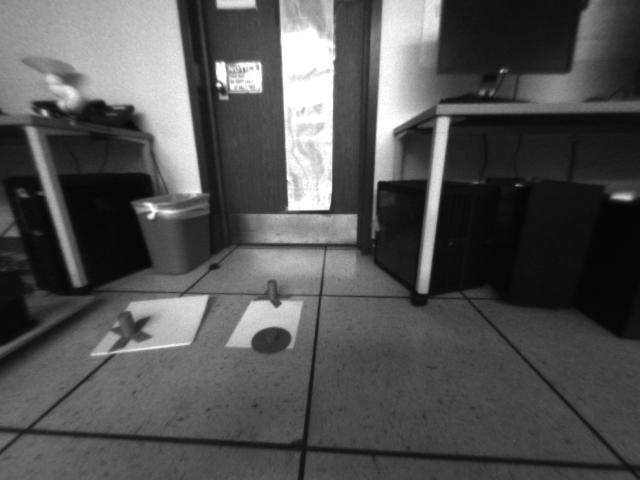X: (110, 311, 153, 351), (255, 278, 286, 310)
